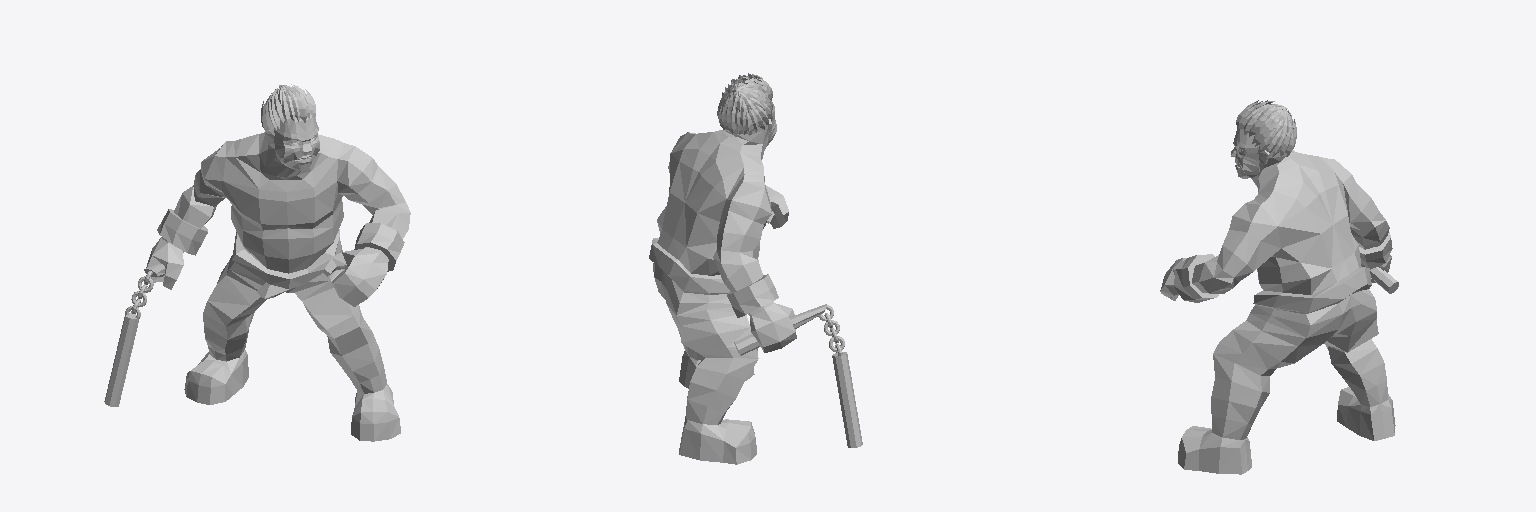
File: attack.obj
The picture shows the model from 3 angles: view 1: azimuth 30°, elevation 25°; view 2: azimuth 150°, elevation 25°; view 3: azimuth 270°, elevation 25°; orthographic projection.
Parts seen in each view (by area): view 1: Character_Type_K_P3_1, Character_Type_K_P3_2; view 2: Character_Type_K_P3_1, Character_Type_K_P3_2; view 3: Character_Type_K_P3_1.
Boxes of the visible parts, x1=… form: Character_Type_K_P3_1: x1=146, y1=84, x2=410, y2=441; Character_Type_K_P3_2: x1=104, y1=263, x2=165, y2=406; Character_Type_K_P3_1: x1=649, y1=73, x2=796, y2=464; Character_Type_K_P3_2: x1=734, y1=304, x2=862, y2=447; Character_Type_K_P3_1: x1=1160, y1=100, x2=1395, y2=474.
Bounding box in the file's own units: 118 × 153 × 99.45.